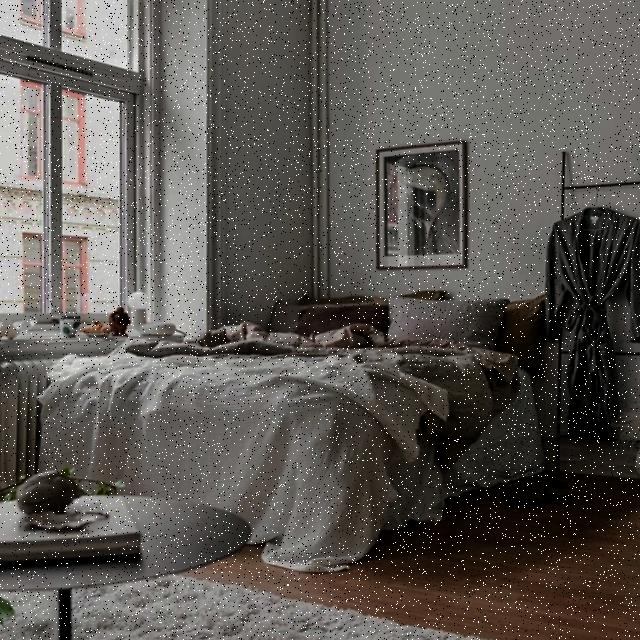bed: (36, 288, 550, 576)
